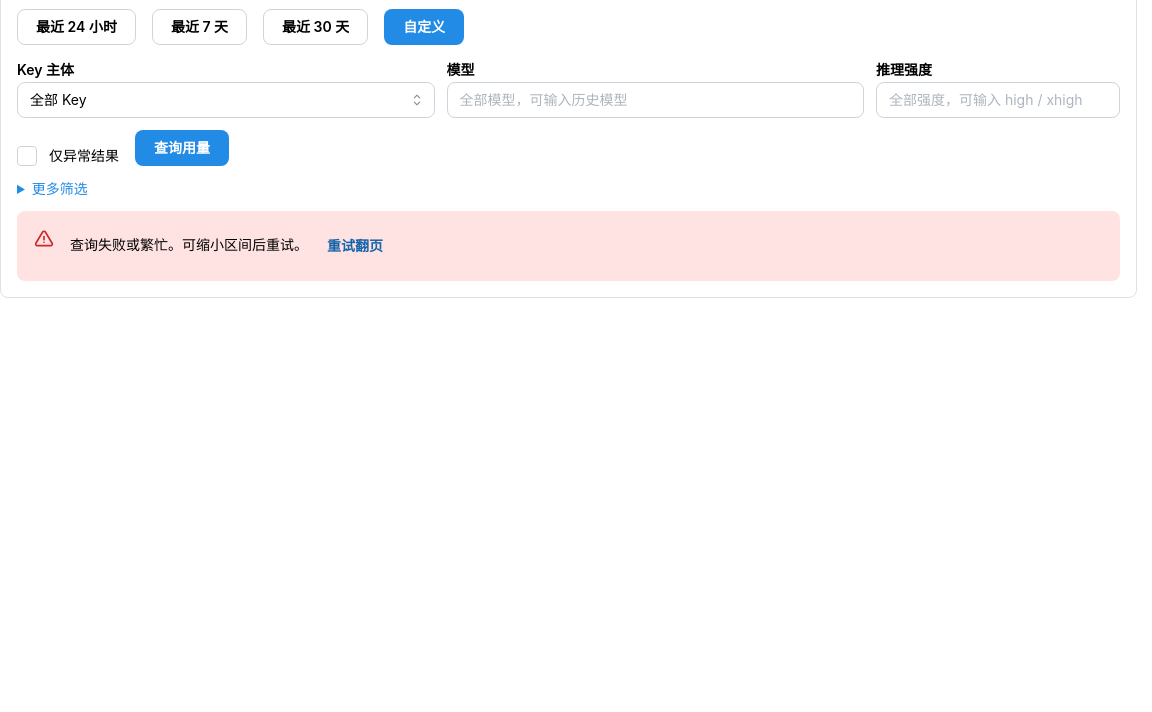
Test: P2-2 P2-5 preserves POP scroll through a slow failed restore and retry
Expected: the message "查询失败或繁忙。可缩小区间后重试。 重试翻页" is shown, [17, 212, 1120, 282]
Click the button "重试翻页" at [355, 246], box [308, 228, 402, 264]
(page scrolled)
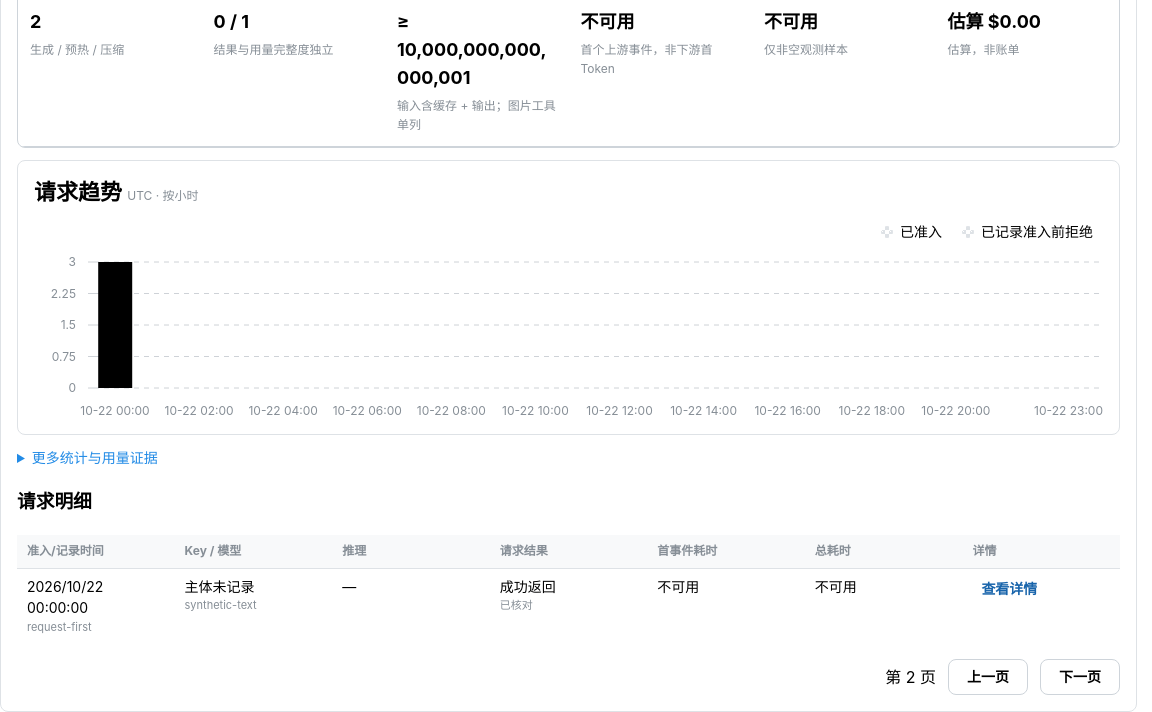
Expected: the text "第 2 页" is shown, [885, 665, 936, 690]
